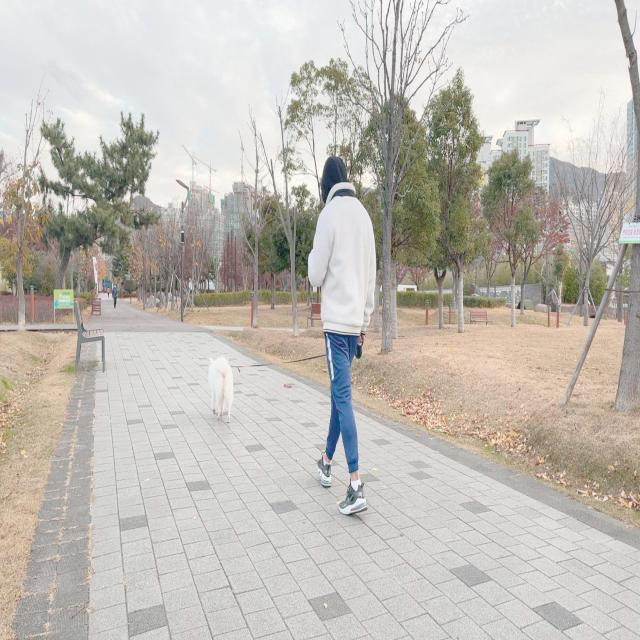Leashed_Dog: (208, 334, 359, 425)
